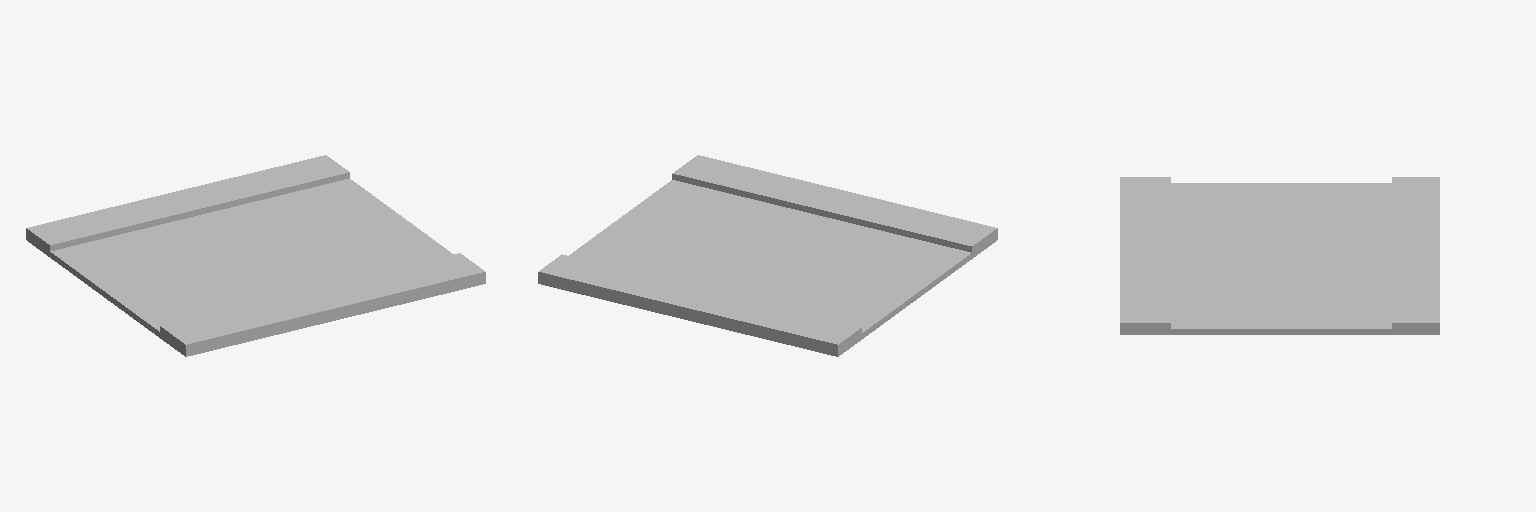
The model's file is _oad_base-2.obj.
3 renders of one model, left to right at view 1: azimuth 30°, elevation 25°; view 2: azimuth 150°, elevation 25°; view 3: azimuth 270°, elevation 25°, orthographic.
Visible parts, largest first — view 1: object 1; view 2: object 1; view 3: object 1.
Boxes of the visible parts, box(x1,y1,x2,y2) form: object 1: box(26, 155, 485, 356); object 1: box(538, 155, 997, 356); object 1: box(1120, 177, 1439, 334).
Bounding box in the file's own units: 10.2 × 0.4 × 9.4.